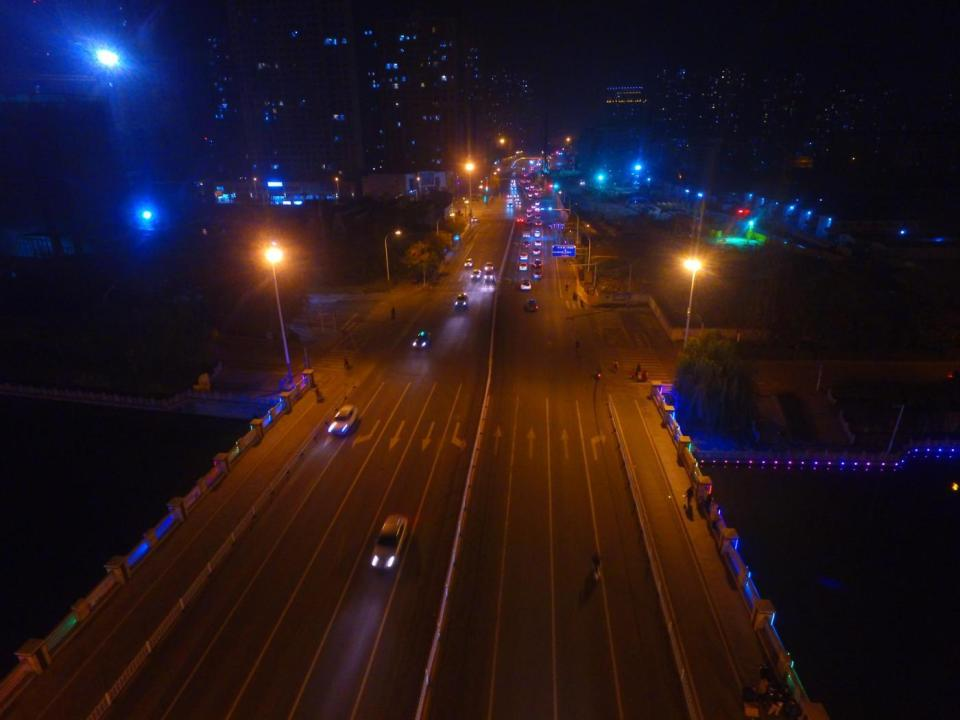car: (368, 511, 408, 572), (328, 403, 360, 438), (412, 331, 431, 349), (456, 291, 468, 308), (526, 297, 538, 311), (484, 269, 495, 282), (521, 278, 532, 290), (470, 268, 482, 279), (485, 261, 494, 273), (463, 257, 474, 266), (533, 258, 542, 268), (531, 246, 541, 255), (533, 270, 542, 279), (519, 261, 527, 271), (520, 250, 528, 260), (534, 218, 542, 226), (508, 176, 516, 184), (454, 232, 461, 241), (523, 240, 530, 248), (534, 238, 542, 245), (534, 229, 541, 237), (516, 215, 524, 222), (470, 215, 478, 222), (525, 206, 533, 212), (525, 218, 532, 224), (516, 198, 522, 205), (534, 213, 542, 218), (507, 202, 513, 208), (513, 193, 519, 199), (534, 207, 541, 212), (540, 205, 545, 212), (526, 212, 532, 217), (530, 203, 536, 208), (510, 186, 516, 191), (507, 193, 512, 198), (535, 200, 539, 206), (521, 165, 525, 170)
van: (521, 226, 532, 239)
